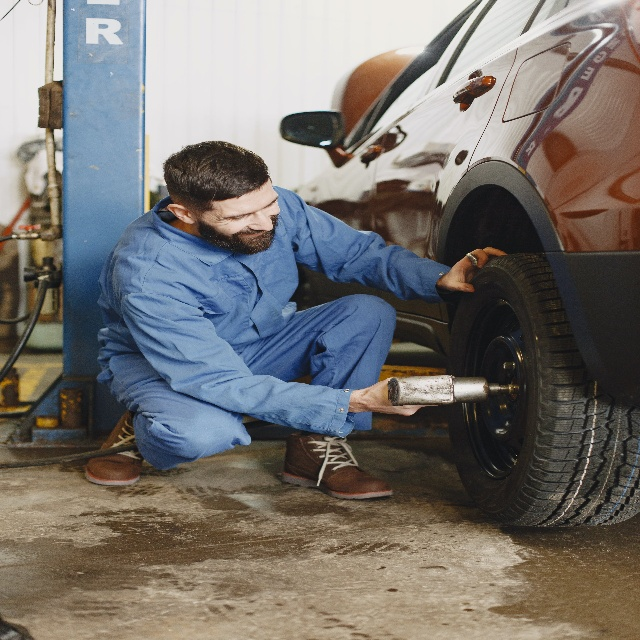Sin_guantes: (441, 251, 506, 293), (368, 378, 422, 419)
